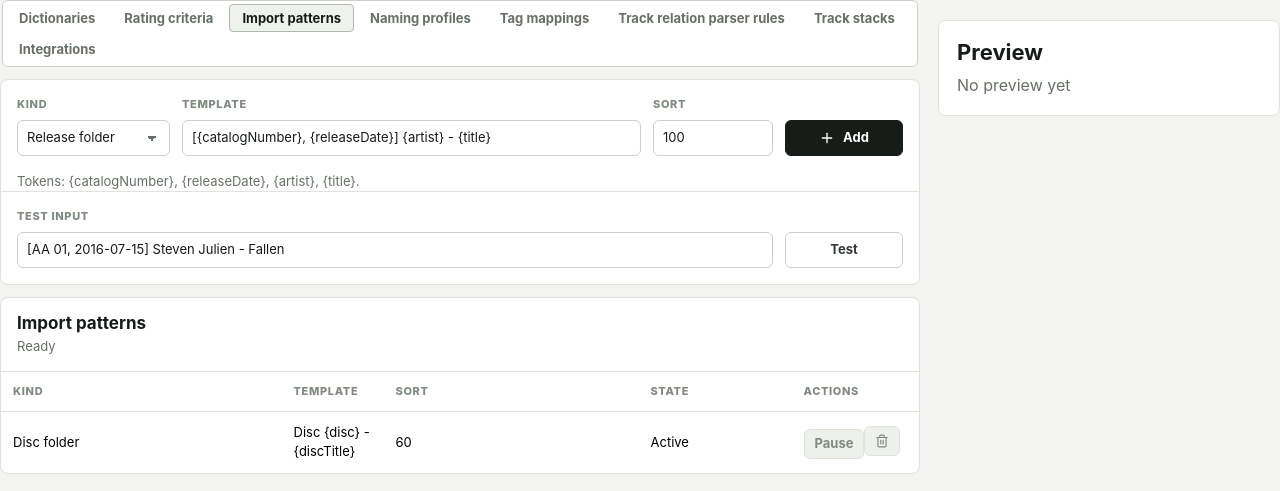
Test: ImportPatternSettings › offers disc folder patterns with their own template and preview
Expected: the text "Disc {disc} - {discTitle}" is shown, [282, 411, 384, 473]
Expected: the cell "Disc folder" is shown, [1, 411, 282, 473]
Select "Disc folder" in the dropdown labelled "Kind" at (94, 138), box [17, 120, 170, 156]
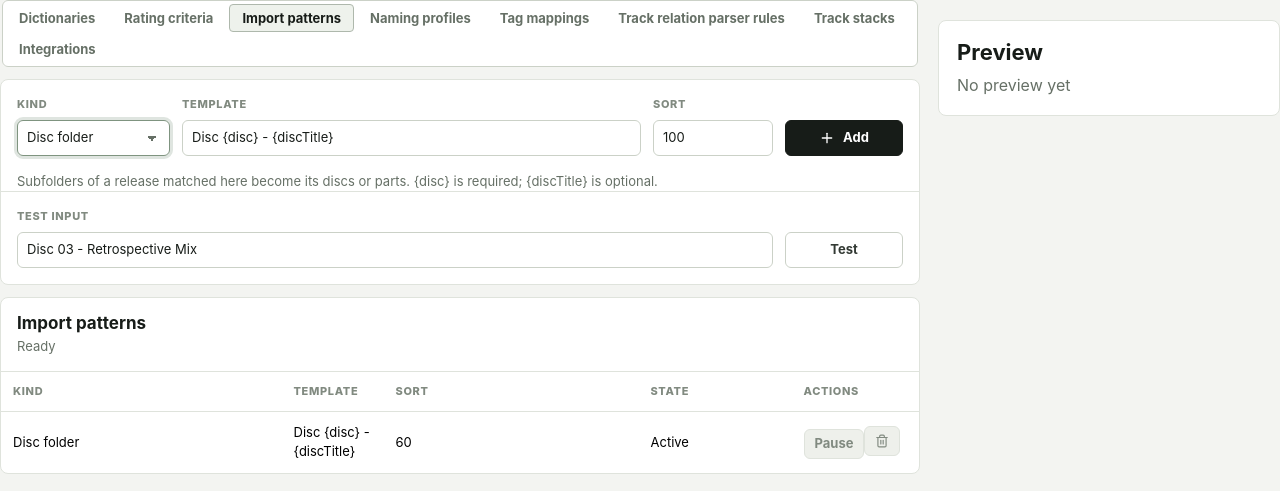
Expected: the field labelled "Template" holds "Disc {disc} - {discTitle}", [182, 120, 641, 156]
Expected: the field labelled "Test input" holds "Disc 03 - Retrospective Mix", [17, 232, 773, 268]
Click the button "Test" at (844, 250), box [785, 232, 903, 268]
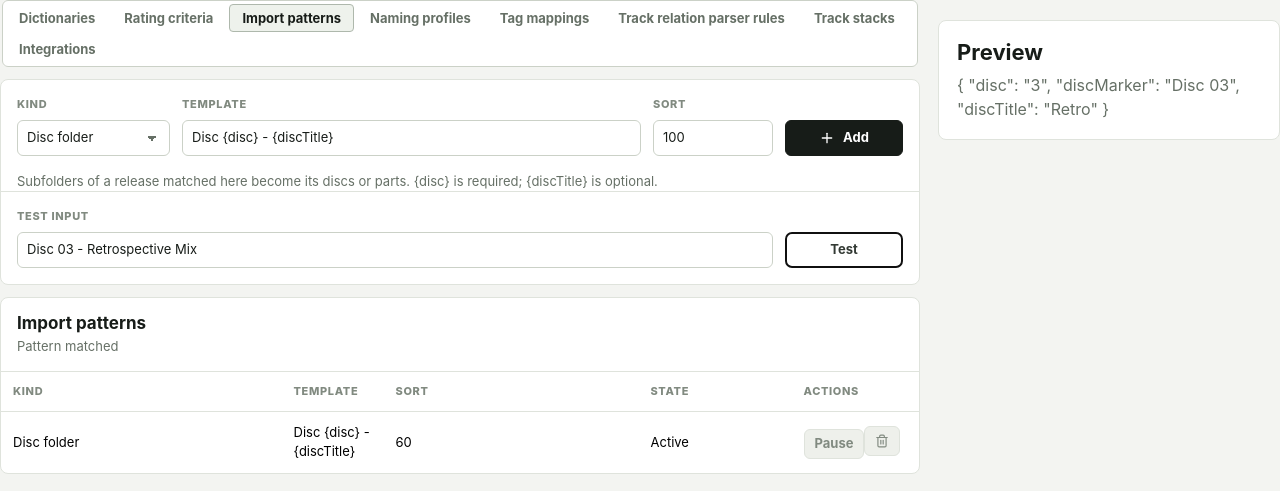
Expected: the text "Pattern matched" is shown, [17, 338, 118, 354]
